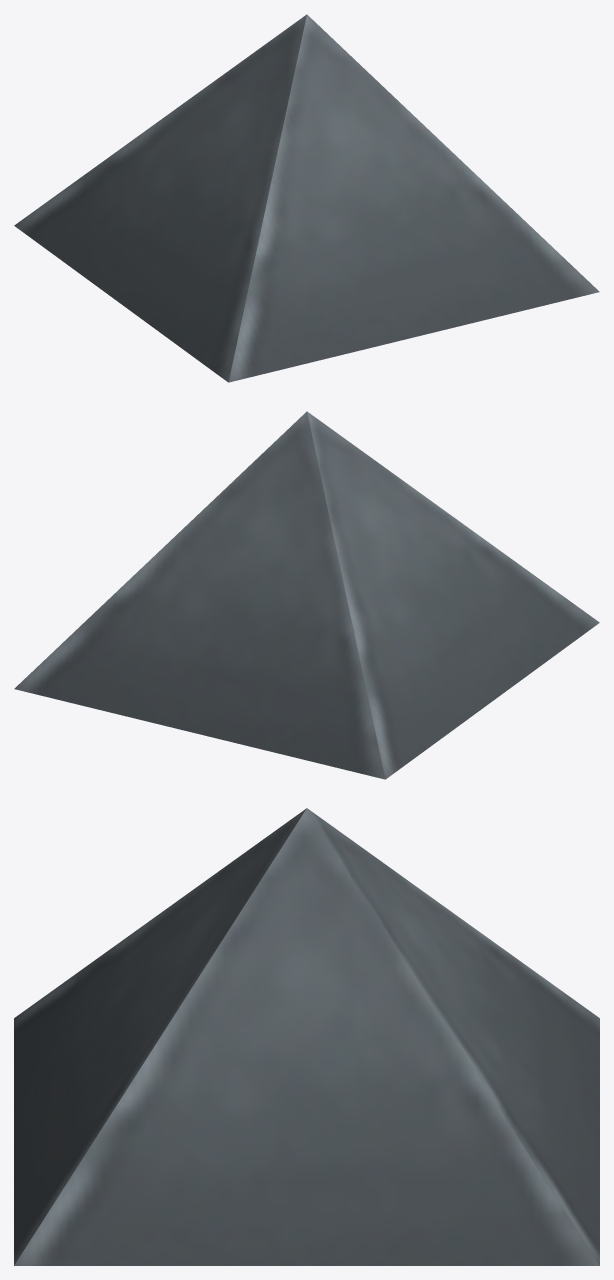
3 views of the same model, one above another, from view 1: azimuth 30°, elevation 25°; view 2: azimuth 150°, elevation 25°; view 3: azimuth 270°, elevation 25° (orthographic). The views are drawn at different scales.
Visible parts, largest first — view 1: part_17:Mesh; view 2: part_17:Mesh; view 3: part_17:Mesh.
Boxes of the visible parts, x1=… form: part_17:Mesh: x1=14, y1=14, x2=599, y2=382; part_17:Mesh: x1=14, y1=411, x2=599, y2=779; part_17:Mesh: x1=14, y1=808, x2=599, y2=1265.
Size of the model in its own units: 0.4209 by 0.2648 by 0.4209.
